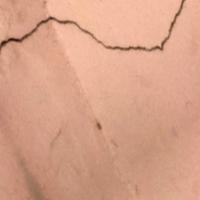crack: (2, 0, 199, 54)
